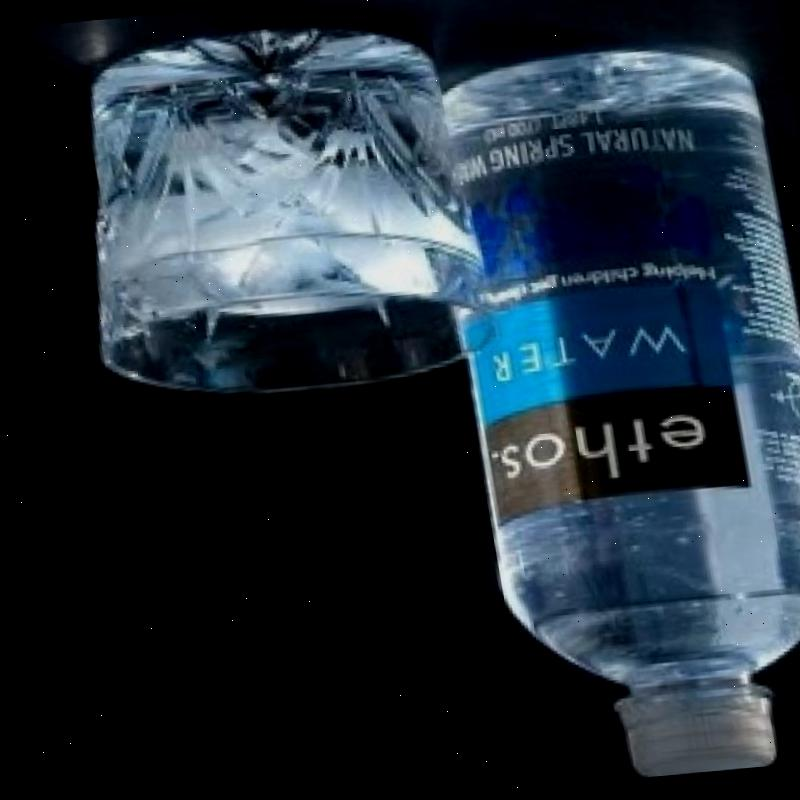botella: (415, 49, 800, 790)
